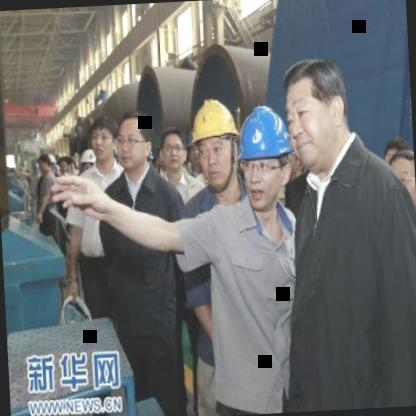head: (280, 47, 357, 171), (116, 109, 158, 176), (88, 115, 122, 170), (386, 148, 416, 210), (154, 126, 188, 176), (36, 152, 52, 172), (57, 154, 68, 174)
helmet: (184, 86, 242, 195), (236, 103, 293, 211), (77, 148, 98, 176)
